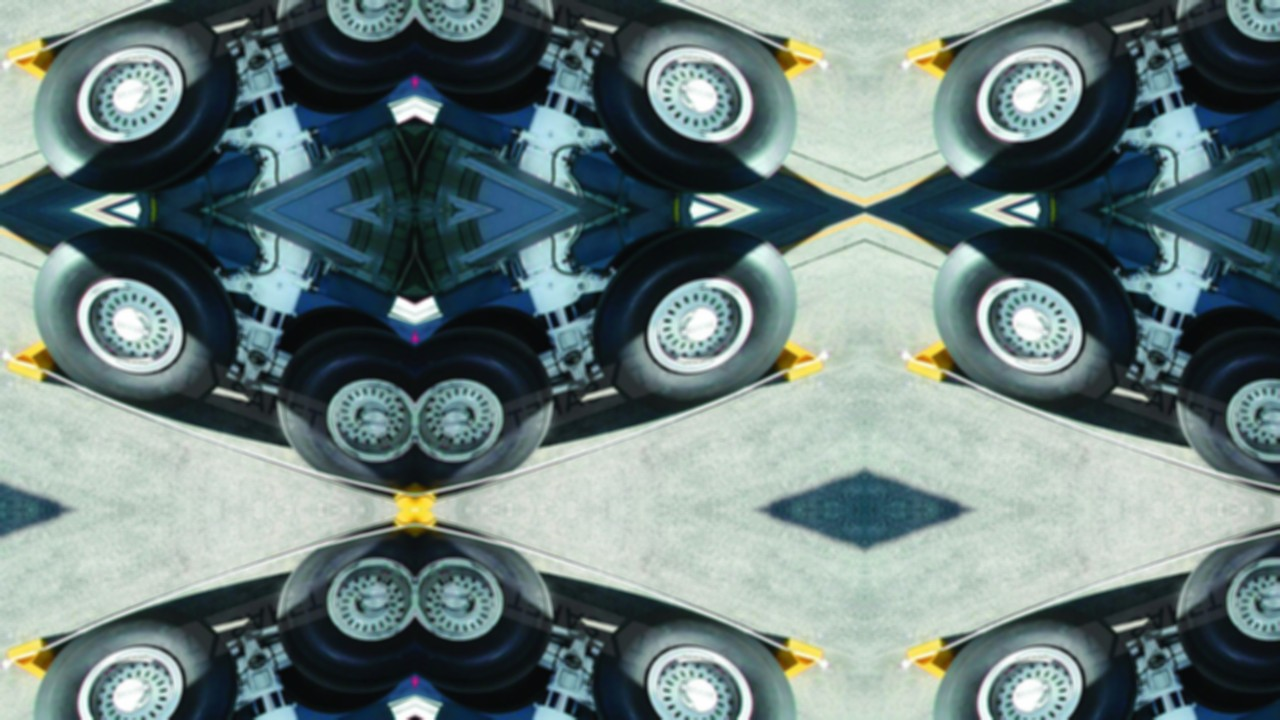chock: (5, 31, 71, 103), (759, 31, 825, 103), (905, 31, 971, 103), (5, 317, 71, 389), (759, 317, 825, 389), (905, 317, 971, 389), (5, 631, 71, 703), (759, 631, 825, 703), (905, 631, 971, 703), (384, 462, 415, 510), (415, 462, 446, 510), (384, 510, 415, 558), (415, 510, 446, 558)
wheel: (10, 210, 258, 434), (572, 210, 820, 434), (910, 210, 1158, 434), (10, 0, 258, 210), (572, 0, 820, 210), (910, 0, 1158, 210), (257, 292, 415, 510), (415, 292, 573, 510), (10, 586, 258, 720), (572, 586, 820, 720), (910, 586, 1158, 720), (257, 510, 415, 720), (415, 510, 573, 720), (1157, 292, 1280, 510), (1157, 510, 1280, 720), (257, 0, 415, 128), (415, 0, 573, 128), (1157, 0, 1280, 128), (275, 29, 404, 138), (426, 29, 555, 138), (275, 282, 404, 391), (426, 282, 555, 391), (275, 629, 404, 720), (426, 629, 555, 720), (1175, 29, 1280, 138), (1175, 282, 1280, 391), (1175, 629, 1280, 720), (138, 144, 236, 202), (594, 144, 692, 202), (1038, 144, 1136, 202), (138, 218, 236, 276), (594, 218, 692, 276), (1038, 218, 1136, 276)
